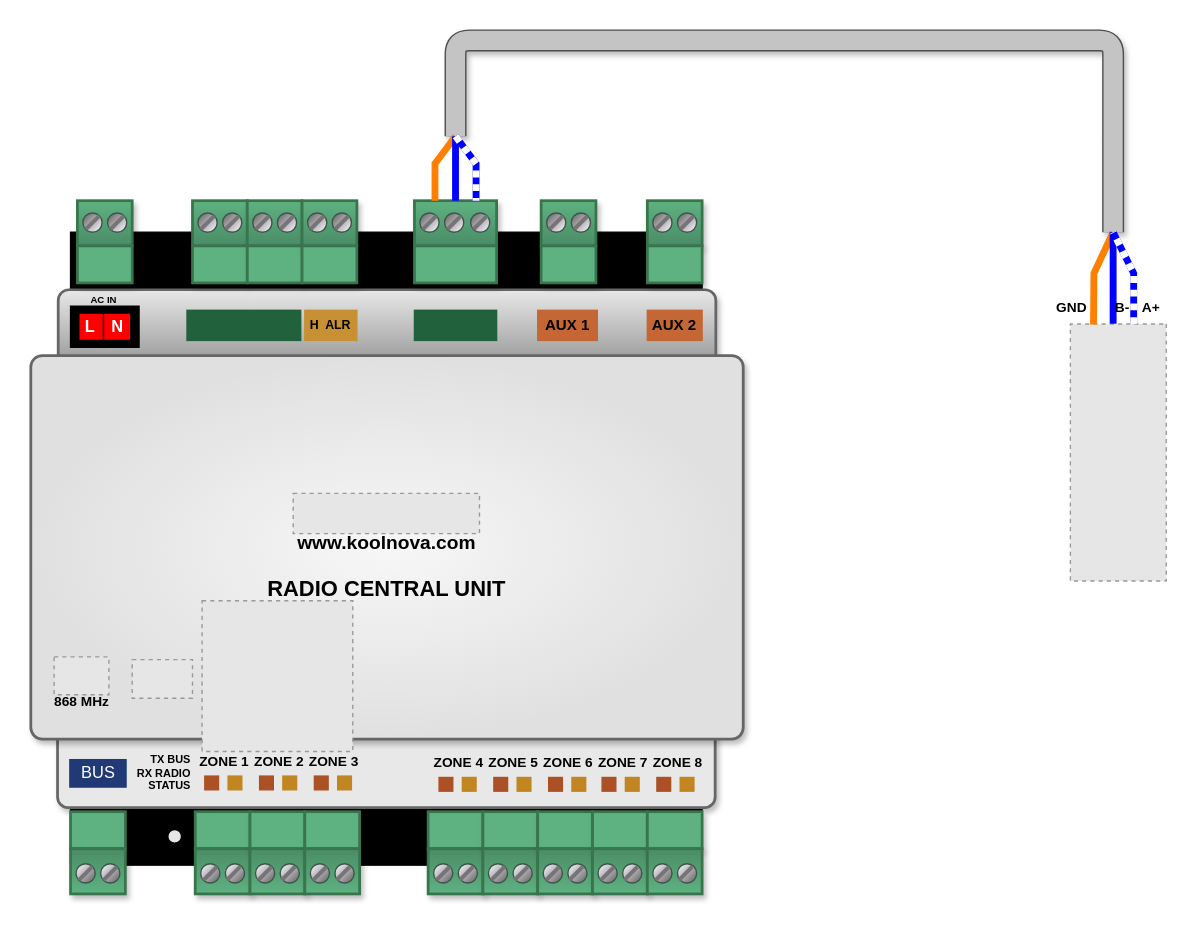
This 1191x927 diagram has some shape labels left out. Grey dashed boxes stand in for pictures. Each missing label, with the centre of its shape:
GND B- A+ +24: point 243,324
GND D- D+: point 455,324
